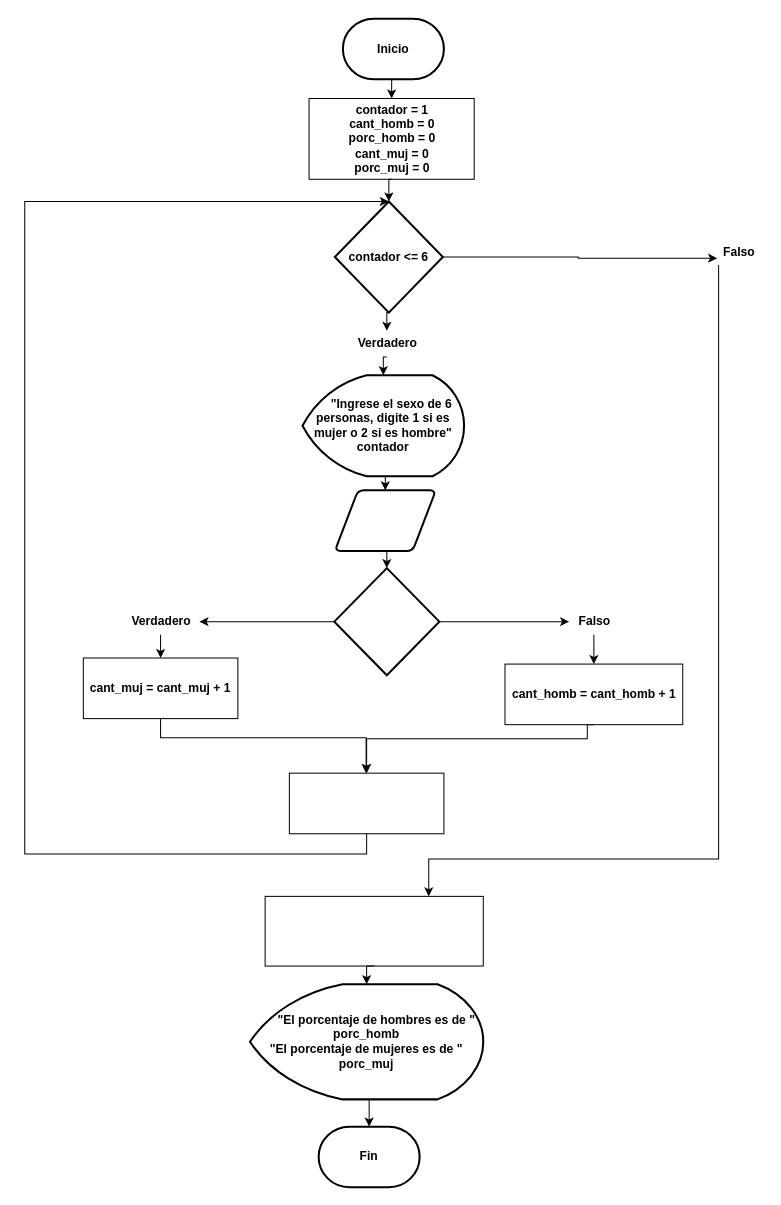
This 781x1205 diagram has some shape labels left out. Here are the shapes that lost their labels. From the top down, the centre of each, then its label:
point (384, 520): sexo
point (386, 621): sexo ==1
point (366, 803): contador = contador + 1
point (373, 930): porc_muj = (cant_muj / 6) * 100 porc_homb = (cant_homb / 6) * 100
